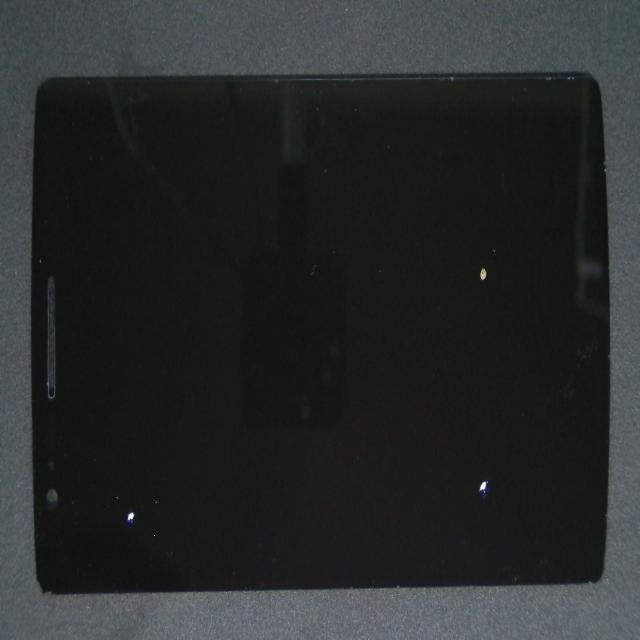stain: (263, 208, 640, 640), (234, 154, 640, 464), (49, 270, 151, 640)
